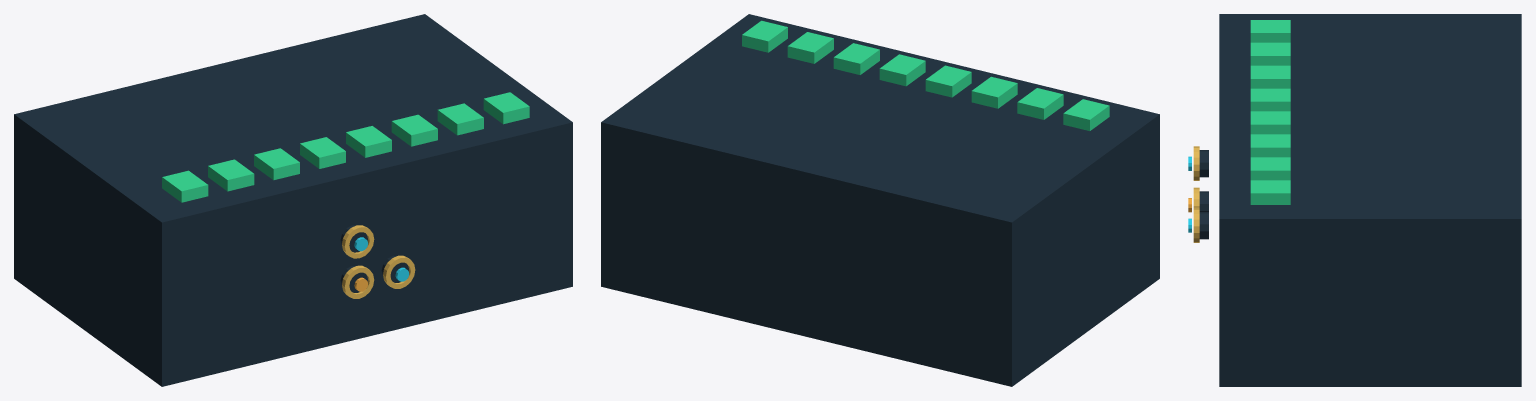
The model's file is 51_L83_SafetyEssentialLoadBus.fbx.
3 renders of one model, left to right at view 1: azimuth 30°, elevation 25°; view 2: azimuth 150°, elevation 25°; view 3: azimuth 270°, elevation 25°, orthographic. The views are drawn at different scales.
Visible parts, largest first — view 1: SafetyEssentialLoadBus; view 2: SafetyEssentialLoadBus; view 3: SafetyEssentialLoadBus.
Boxes of the visible parts, x1,y1,x2,y2 form: SafetyEssentialLoadBus: (14, 14, 572, 386); SafetyEssentialLoadBus: (601, 14, 1159, 386); SafetyEssentialLoadBus: (1188, 14, 1521, 386).
Bounding box in the file's own units: 170 × 69.5 × 117.
